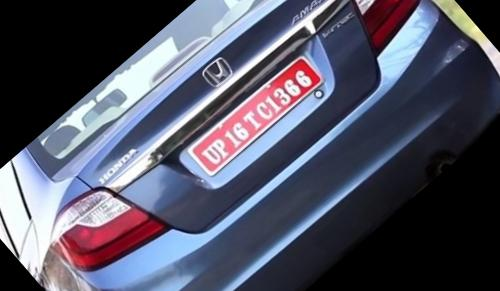plate: (170, 35, 342, 194)
